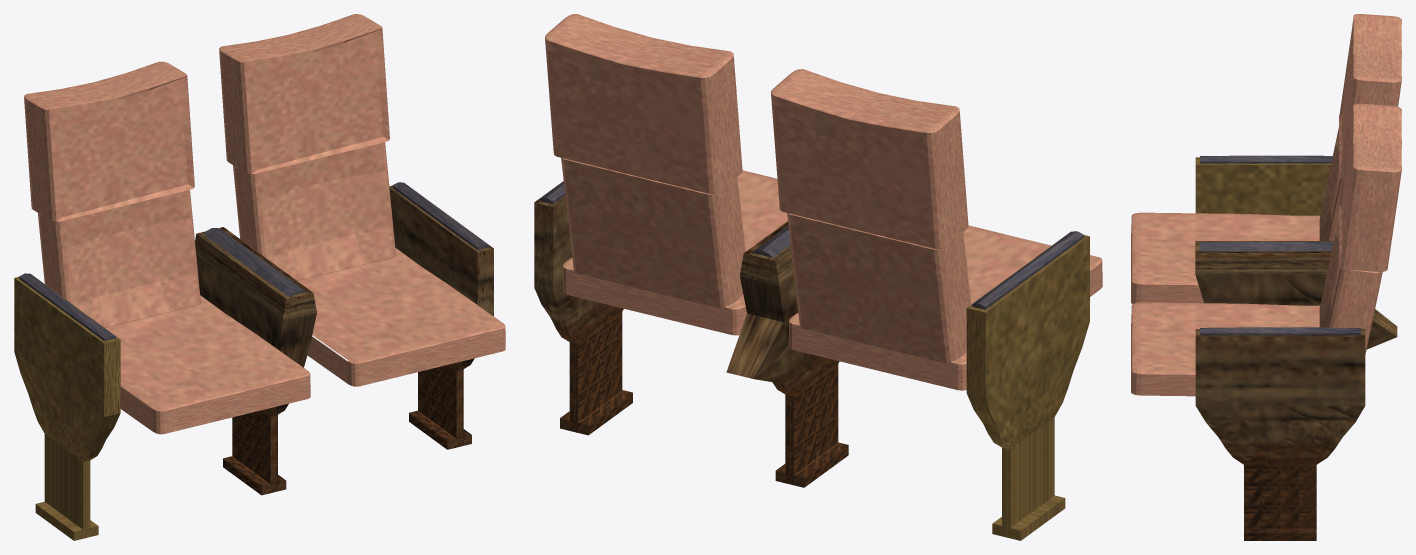
File: seat.glb
3 renders of one model, left to right at view 1: azimuth 30°, elevation 25°; view 2: azimuth 150°, elevation 25°; view 3: azimuth 270°, elevation 25°, orthographic. The views are drawn at different scales.
Parts seen in each view (by area): view 1: seat; view 2: seat; view 3: seat.
Part boxes in pixels (x1,y1,x2,y2): seat: (14,14,505,540); seat: (534,14,1102,540); seat: (1131,14,1401,540).
Size of the model in its own units: 1.28 by 1.17 by 0.802.
Materials: 4 (4 with a texture image).
